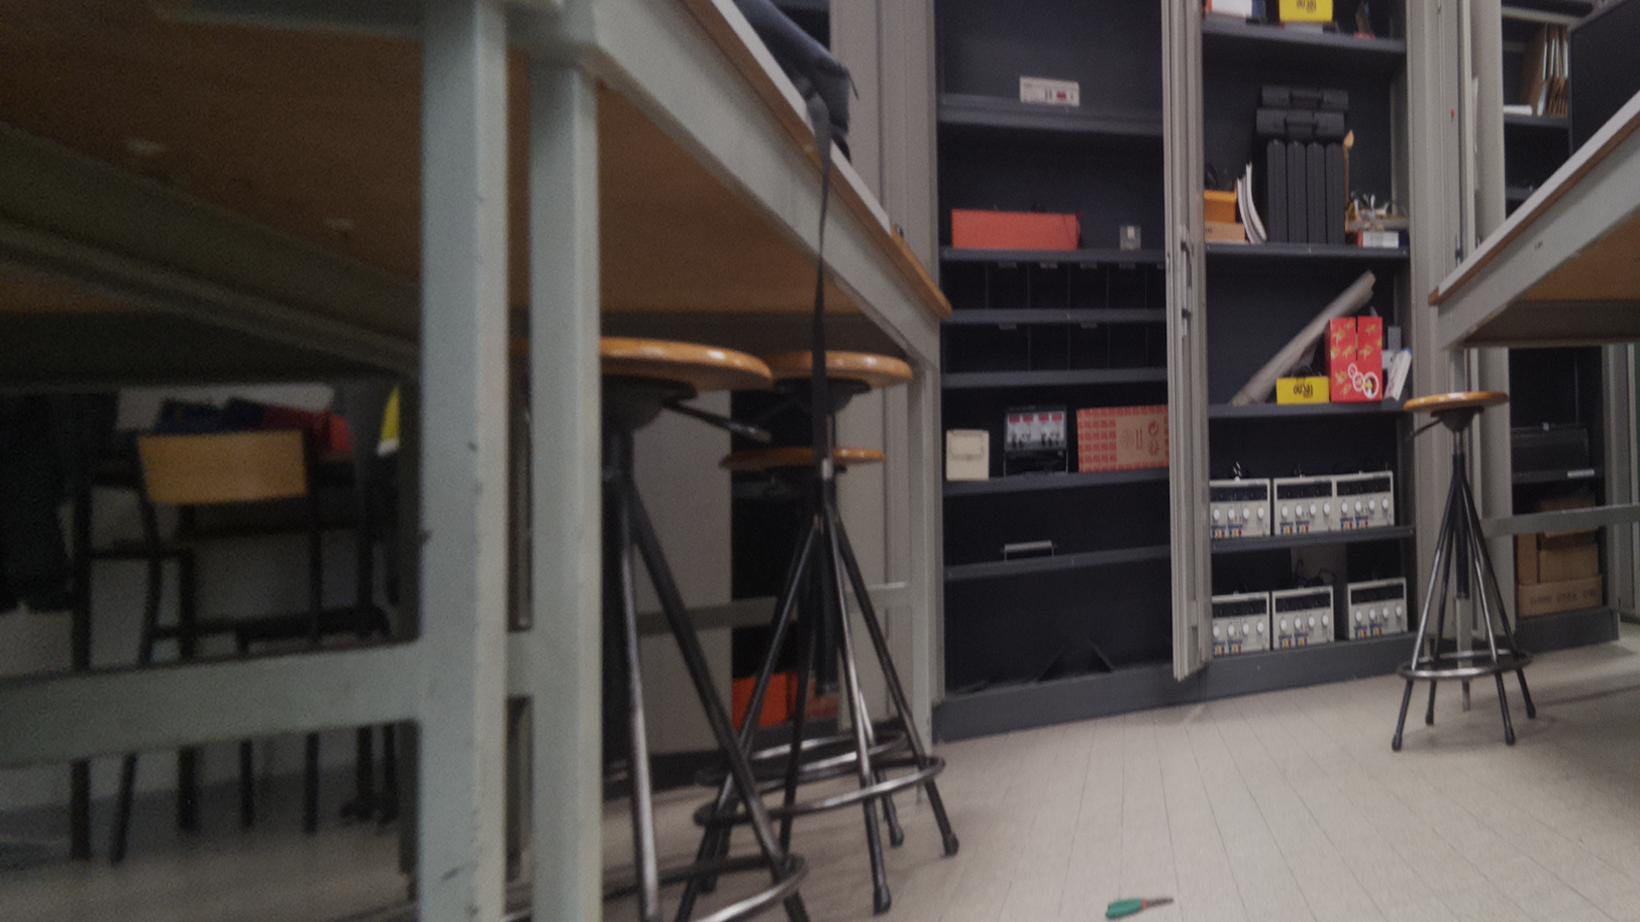small: (1100, 885, 1179, 922)
